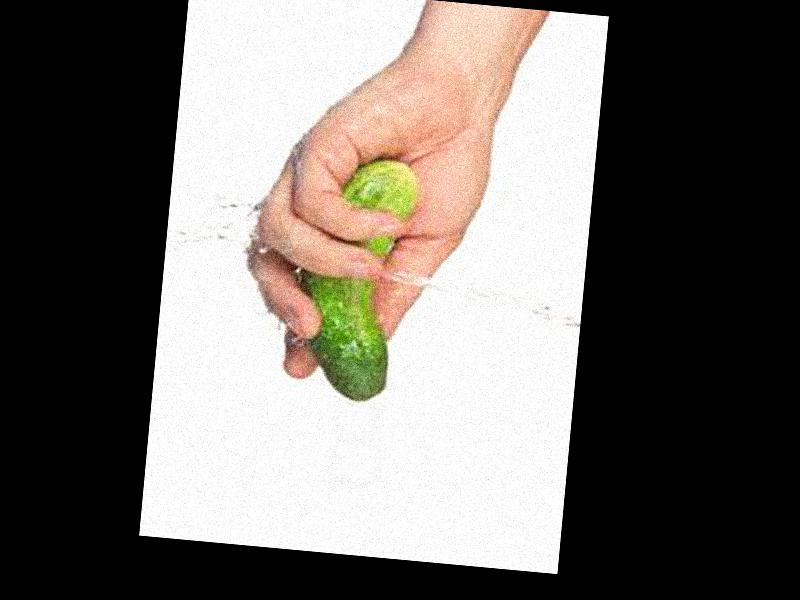Cucumber: (296, 155, 417, 405)
